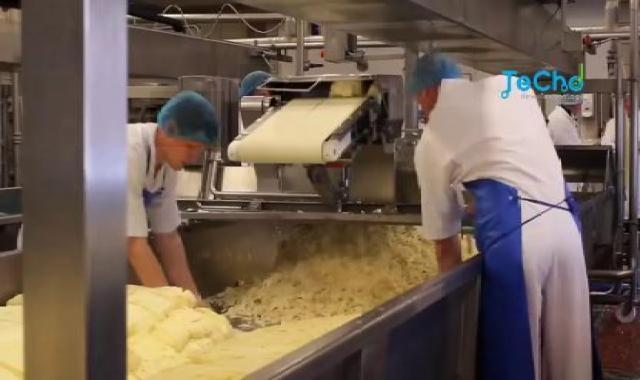gloves: (404, 44, 473, 107), (150, 91, 225, 147), (240, 64, 284, 112)
